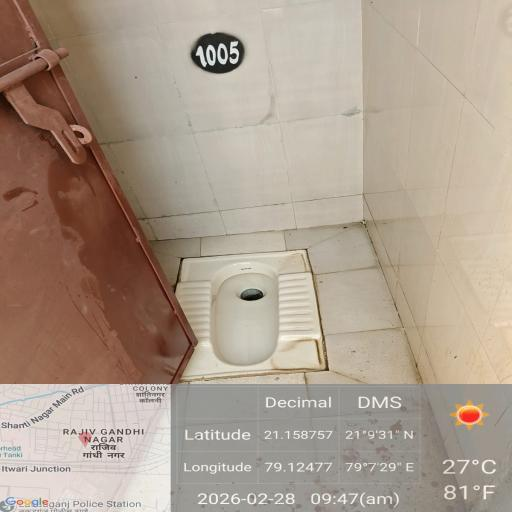clean_floor: (118, 37, 479, 190)
dirty_floor: (120, 241, 484, 512)
partial_dirty_indian: (145, 254, 357, 386)
